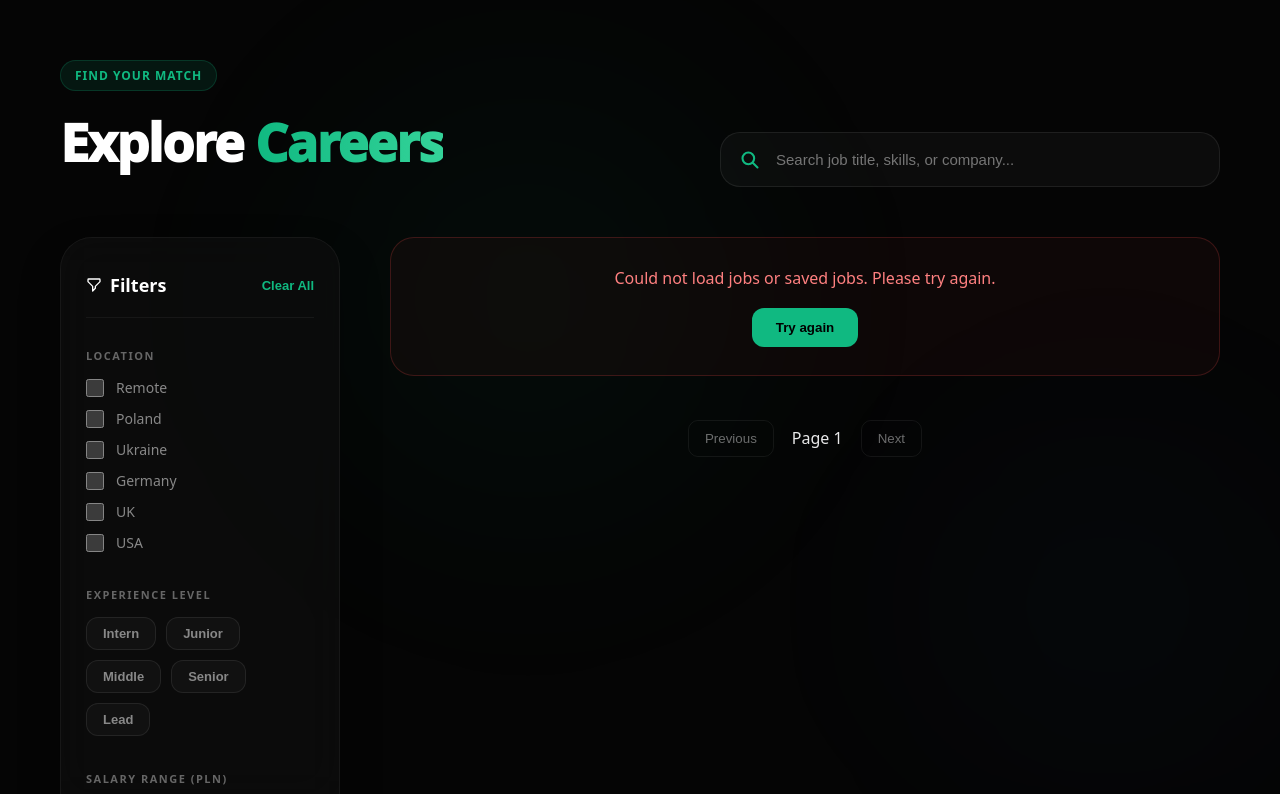
shows a genuine empty state for /jobs only after a successful retry
Expected: the message "Could not load jobs or saved jobs. Please try again." is shown, [614,267,996,289]
Expected: the text "No matching roles found" is not shown
Click the button "Try again": [805, 327] box [752,308,858,347]
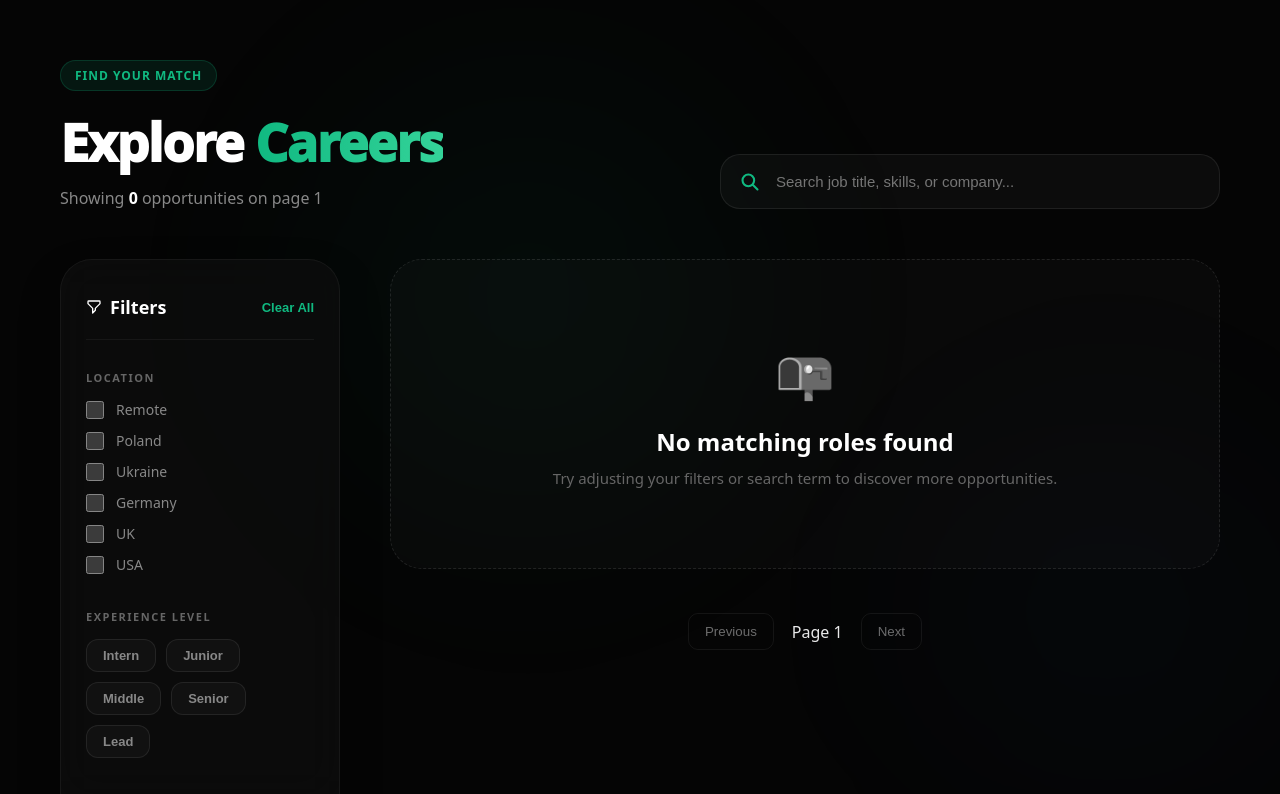
Expected: the heading "No matching roles found" is shown, [656,425,954,458]
Expected: the message "Could not load jobs or saved jobs. Please try again." is gone
